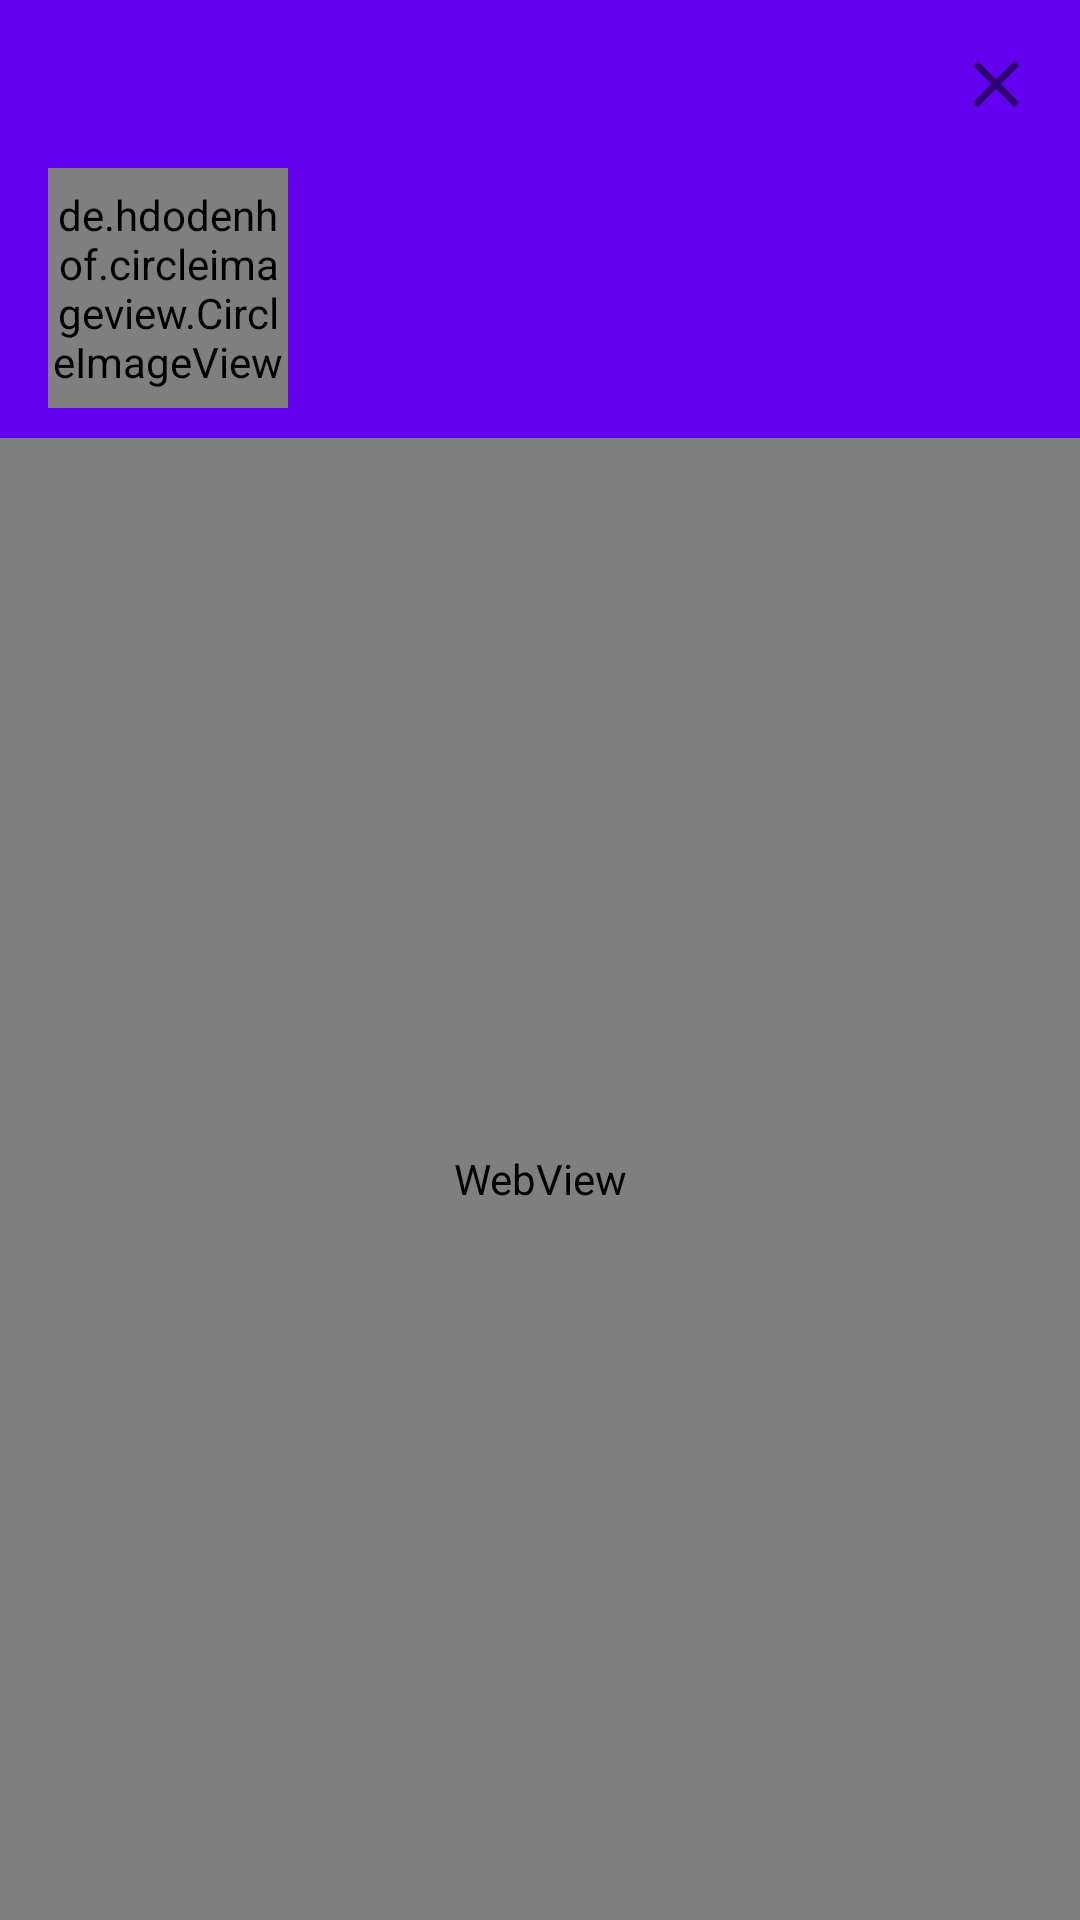

Icon bounding boxes for this 1080*1920 phone screenshot, format detection(x1, y1, x2, y2):
close: detection(973, 61, 1019, 107)
